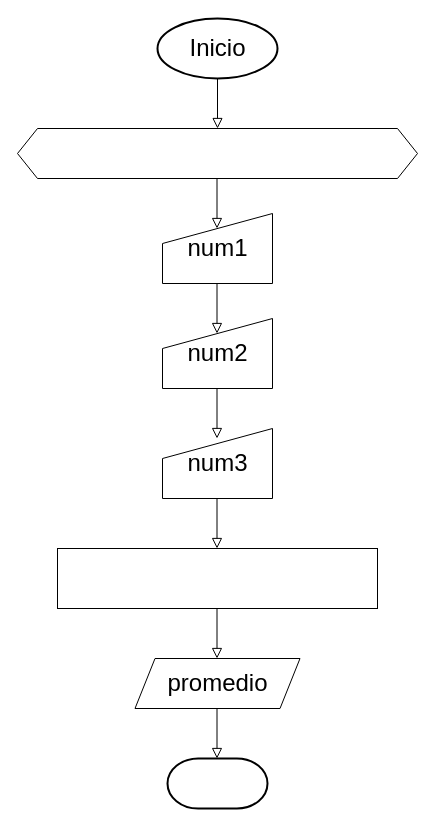
This 435x826 diagram has some shape labels left out. The shapes that lost their labels are listed below. From the top down, each one's box as (x1, y1, x2, y2) in pixels, then its label:
(16, 128, 418, 178): num1 = 0, num2 = 0, num3 = 0, promedio = 0
(56, 548, 378, 608): promedio = (num1 + num2 + num3) / 3
(166, 757, 268, 809): Fin
